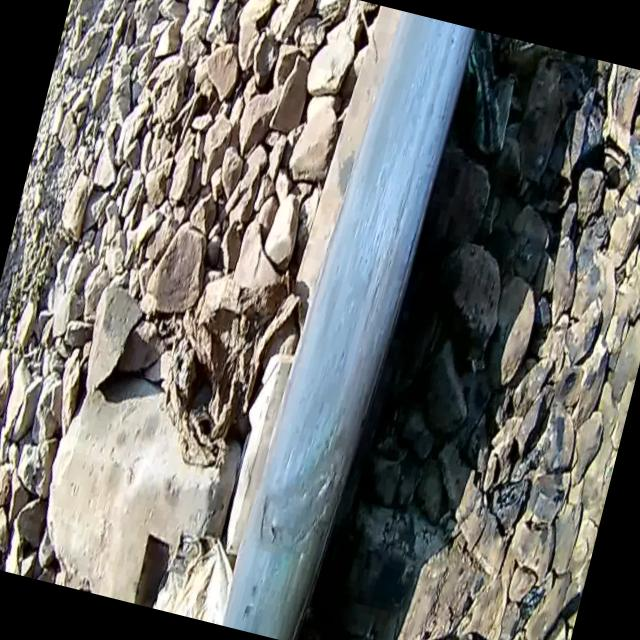Squats: (223, 393, 378, 580)
